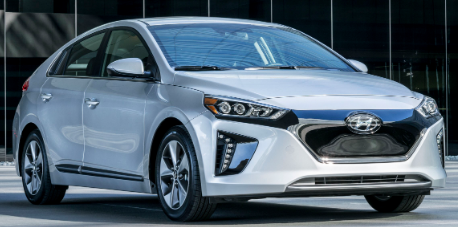car: (11, 14, 447, 225)
